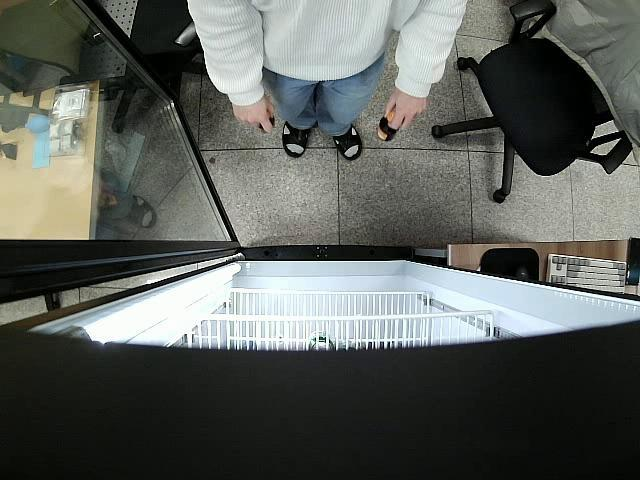17_vita500: (376, 110, 405, 144), (258, 110, 275, 134)
